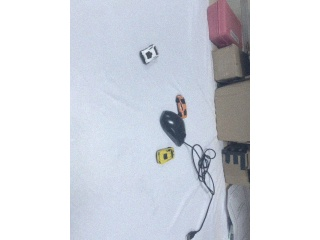box: (213, 80, 250, 144), (212, 43, 250, 84), (221, 142, 251, 186)
mouse: (159, 110, 186, 147)
toy_car: (140, 45, 159, 64), (156, 147, 175, 165), (176, 95, 188, 118)
